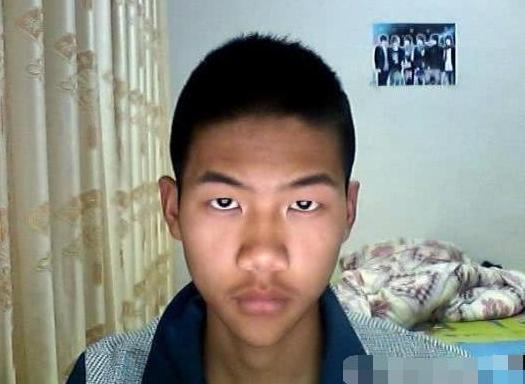people: (160, 34, 359, 384)
